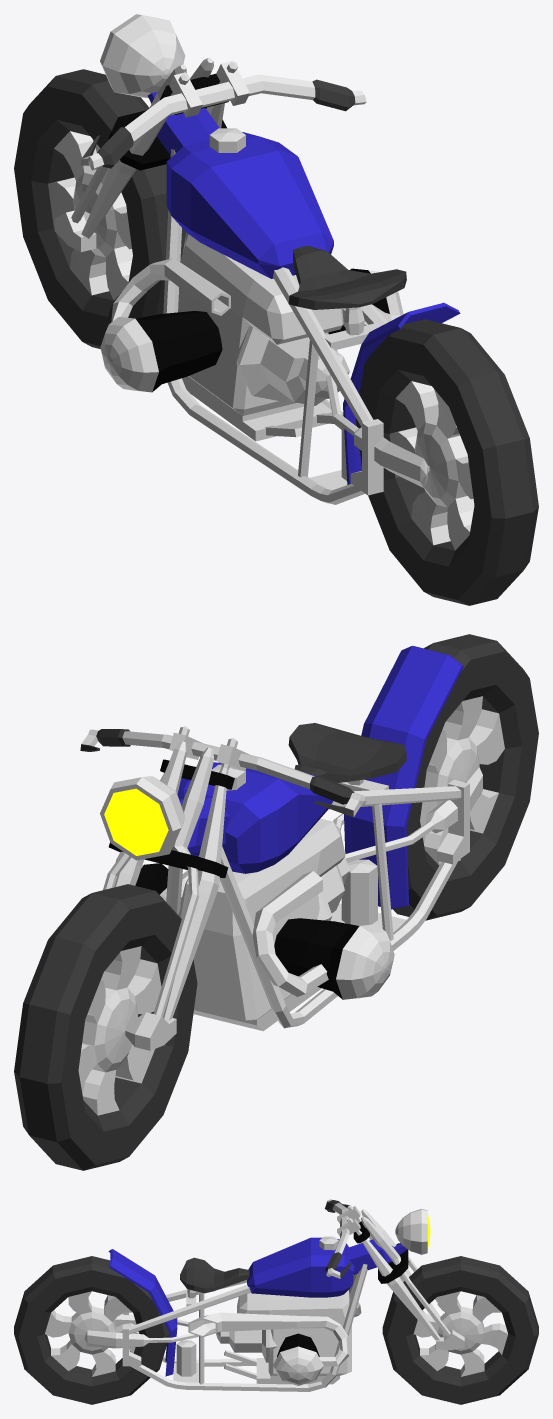
File: chopper.fbx
3 renders of one model, top to bottom at view 1: azimuth 30°, elevation 25°; view 2: azimuth 150°, elevation 25°; view 3: azimuth 270°, elevation 25°, orthographic. The views are drawn at different scales.
Parts seen in each view (by area): view 1: motorcycle, .b, .f; view 2: motorcycle, .f, .b; view 3: motorcycle, .f, .b.
Boxes of the visible parts, x1,y1,x2,y2 form: motorcycle: (54, 14, 460, 504); .b: (355, 319, 538, 605); .f: (14, 69, 186, 348); motorcycle: (80, 645, 482, 1050); .f: (14, 884, 197, 1170); .b: (393, 634, 538, 920); motorcycle: (84, 1199, 464, 1391); .f: (382, 1256, 538, 1404); .b: (14, 1256, 169, 1404).
Size of the model in its own units: 317 by 390 by 968.
